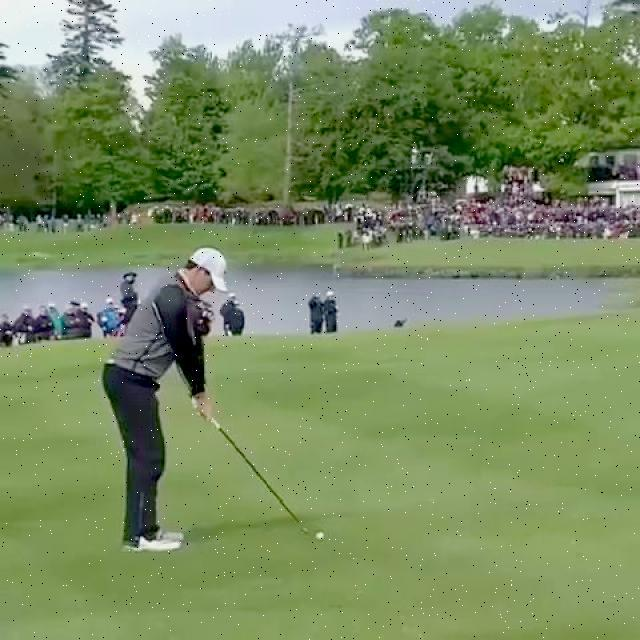ClubHandle: (190, 392, 327, 541)
ClubHead: (306, 528, 324, 539)
GolfBall: (316, 531, 325, 539)
